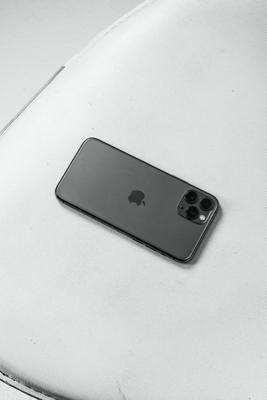cell-phone: (51, 133, 226, 268)
